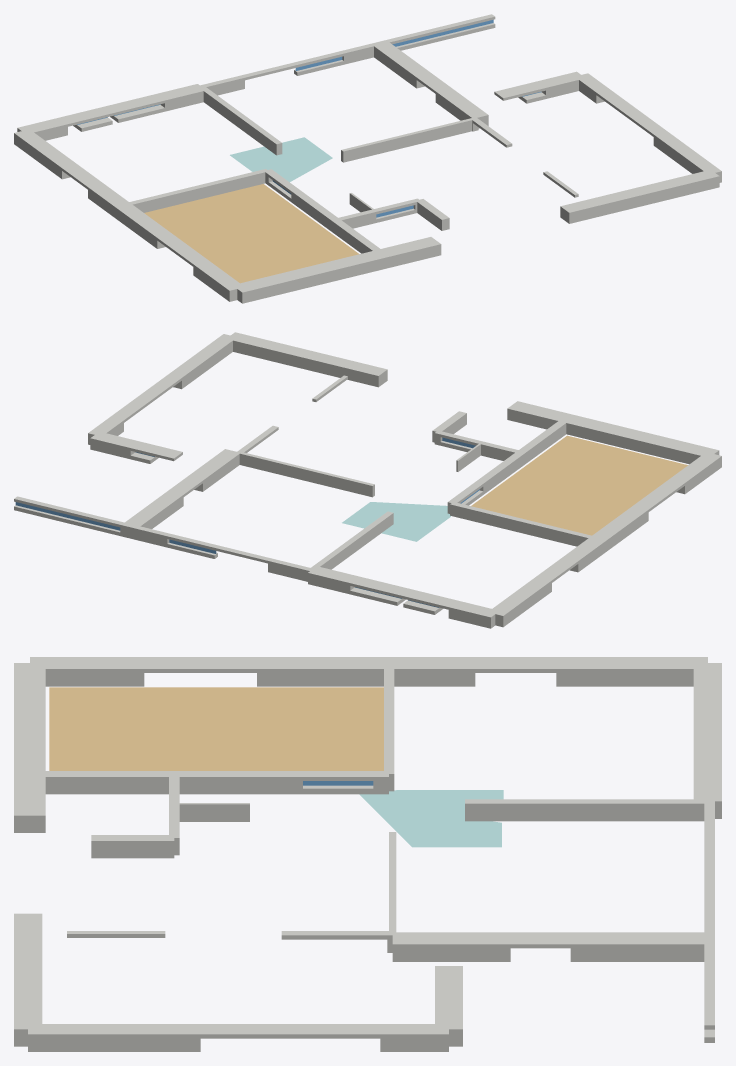
Rendered from Screenshot 2026-10-06 152955_3d.obj.
The picture shows the model from 3 angles, top to bottom: view 1: azimuth 30°, elevation 25°; view 2: azimuth 150°, elevation 25°; view 3: azimuth 270°, elevation 25°; orthographic projection. The views are drawn at different scales.
Visible parts, largest first — view 1: floor_R2_living_60, wall_W11_28, wall_W9_26, floor_R1_bathroom_59, wall_W6_21, wall_W5_20, wall_W16_40, wall_W12_29, wall_W22_51, wall_W21_46, wall_W10_27, wall_W13_32 (+22 smaller); view 2: floor_R2_living_60, wall_W11_28, wall_W9_26, floor_R1_bathroom_59, wall_W6_21, wall_W5_20, wall_W22_51, wall_W12_29, wall_W16_40, wall_W13_32, wall_W21_46, wall_W10_27 (+20 smaller); view 3: floor_R2_living_60, floor_R1_bathroom_59, wall_W16_40, wall_W22_51, wall_W12_29, wall_W21_46, wall_W13_32, wall_W21_48, wall_W11_28, wall_W9_26, wall_W13_34, wall_W15_39 (+26 smaller).
Boxes of the visible parts, <box> form: floor_R2_living_60: <box>144,184,359,283</box>; wall_W11_28: <box>560,169,719,223</box>; wall_W9_26: <box>232,250,386,303</box>; floor_R1_bathroom_59: <box>230,137,332,182</box>; wall_W6_21: <box>122,169,268,212</box>; wall_W5_20: <box>341,118,474,162</box>; wall_W16_40: <box>203,86,282,155</box>; wall_W12_29: <box>14,129,77,179</box>; wall_W22_51: <box>653,131,721,182</box>; wall_W21_46: <box>373,42,431,88</box>; wall_W10_27: <box>377,237,441,268</box>; wall_W13_32: <box>115,204,172,248</box>; floor_R2_living_60: <box>471,435,687,535</box>; wall_W11_28: <box>227,332,387,387</box>; wall_W9_26: <box>563,414,719,464</box>; floor_R1_bathroom_59: <box>342,502,450,541</box>; wall_W6_21: <box>450,502,598,546</box>; wall_W5_20: <box>239,452,374,497</box>; wall_W22_51: <box>168,334,235,389</box>; wall_W12_29: <box>492,576,551,627</box>; wall_W16_40: <box>311,511,393,569</box>; wall_W13_32: <box>592,506,648,551</box>; wall_W21_46: <box>123,491,183,528</box>; wall_W10_27: <box>507,401,572,429</box>; floor_R2_living_60: <box>49,687,383,770</box>; floor_R1_bathroom_59: <box>359,790,503,847</box>; wall_W16_40: <box>465,799,704,821</box>; wall_W22_51: <box>28,1024,200,1051</box>; wall_W12_29: <box>556,657,707,686</box>; wall_W21_46: <box>570,932,709,961</box>; wall_W13_32: <box>257,657,388,686</box>; wall_W21_48: <box>392,932,510,961</box>; wall_W11_28: <box>14,913,42,1046</box>; wall_W9_26: <box>14,663,45,773</box>; wall_W13_34: <box>30,657,144,686</box>; wall_W15_39: <box>30,771,174,794</box>.
Size of the model in its own units: 127 by 2.75 by 100.
